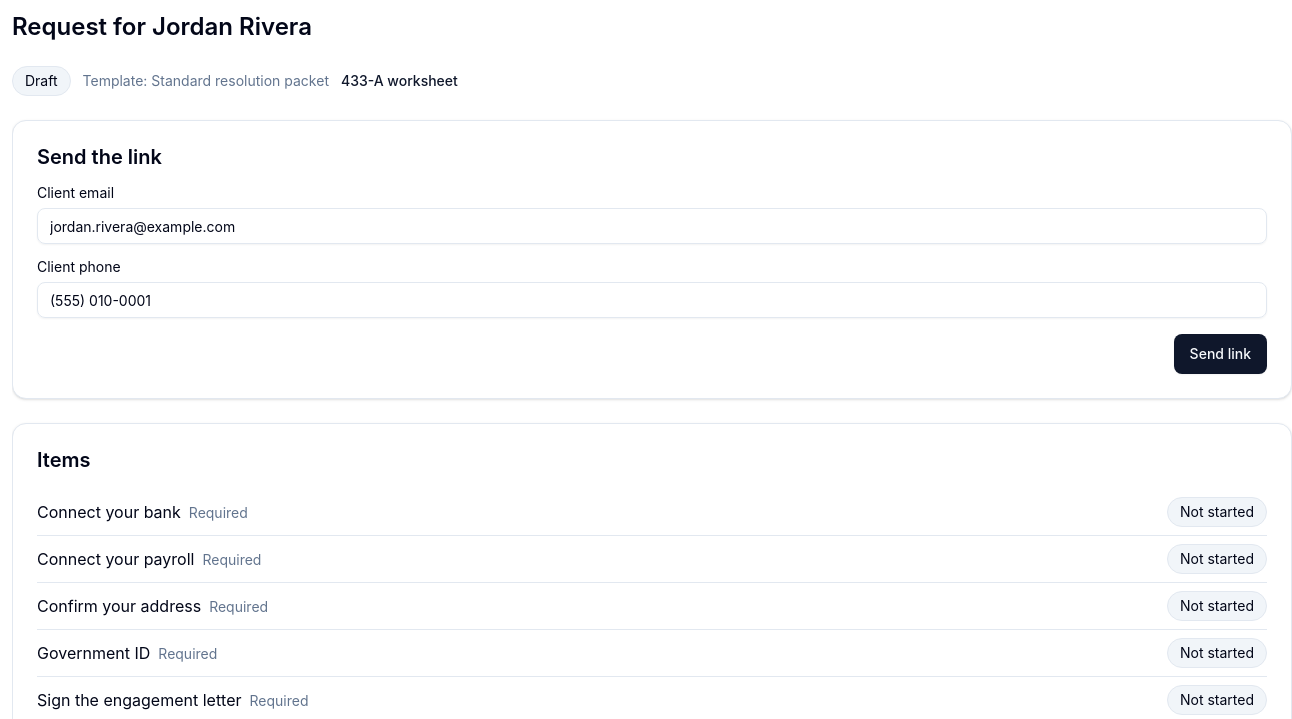
Test: RequestPage › renders the server contact_invalid field error under the email
Click the button "Send link" at (1220, 354), box 1174,334 -> 1267,374
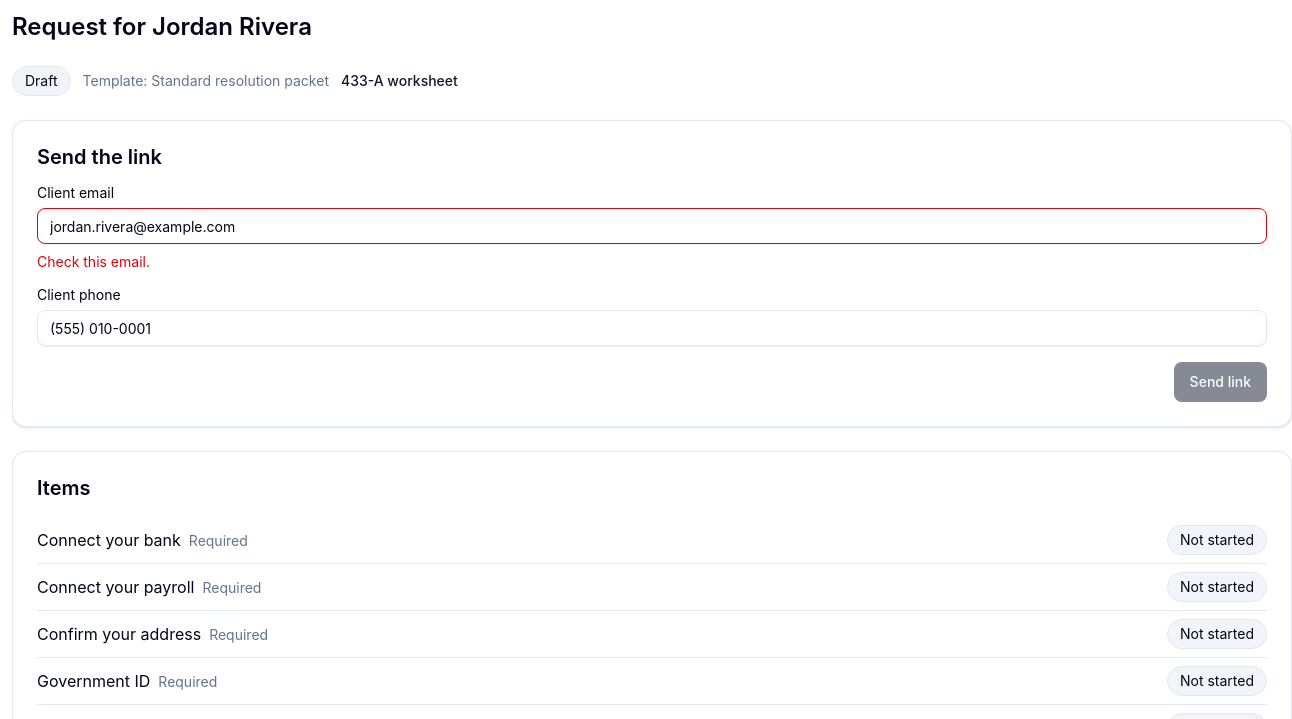
Check: the text "Check this email." is shown, box 37,253 -> 150,270
